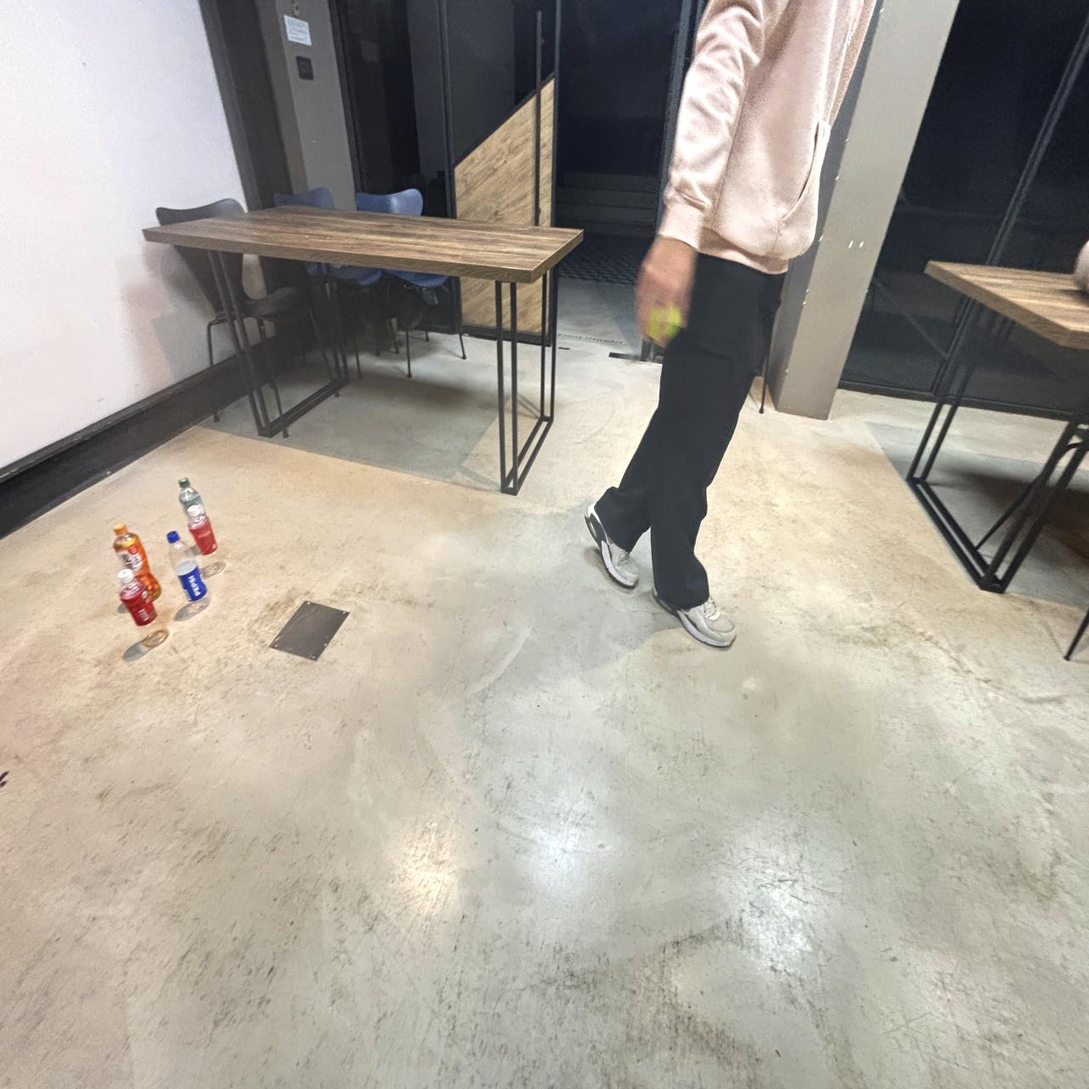person: (587, 0, 875, 647)
plastic-bottle: (117, 569, 169, 649), (113, 524, 161, 600), (179, 478, 217, 555), (168, 531, 207, 601)
tennisball: (647, 305, 681, 347)
